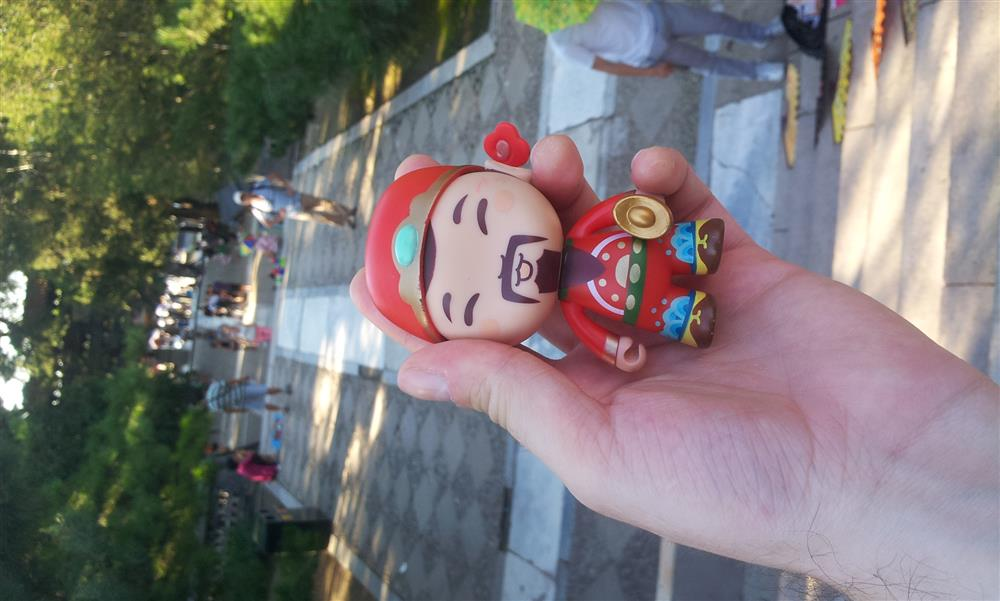god_of_fortune: (359, 122, 724, 374)
